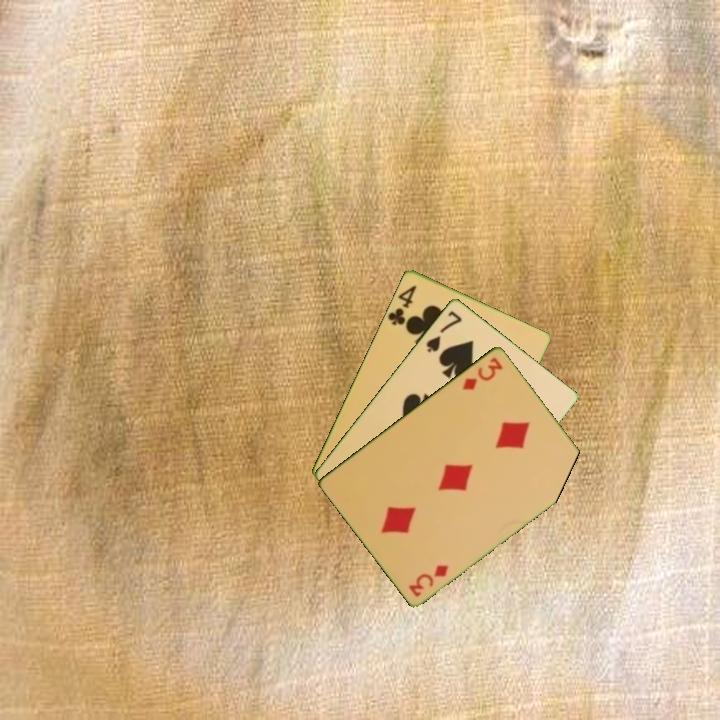3d: (459, 353, 506, 393), (405, 561, 452, 599)
4c: (384, 281, 419, 329)
7s: (422, 307, 465, 355)
